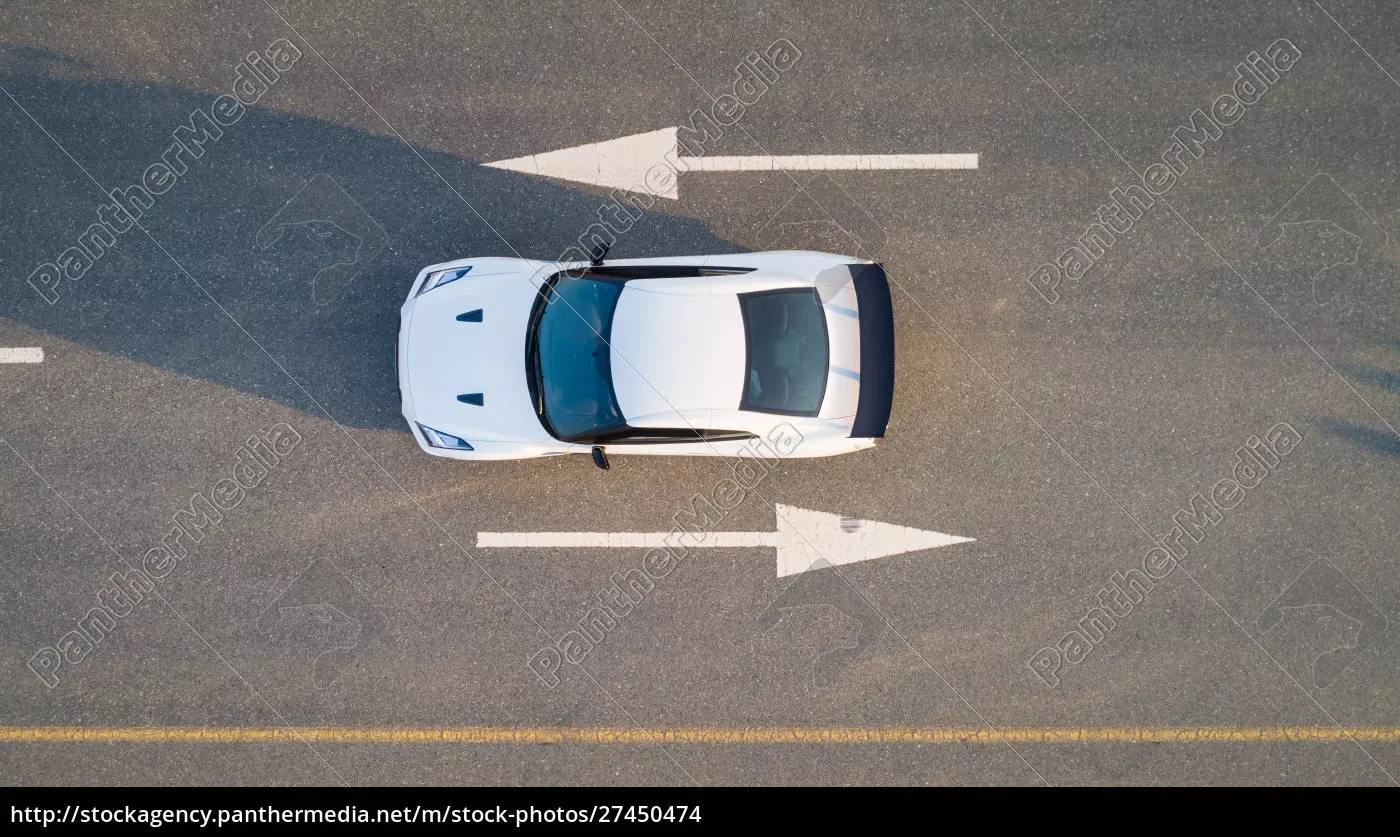Car: (392, 242, 897, 470)
